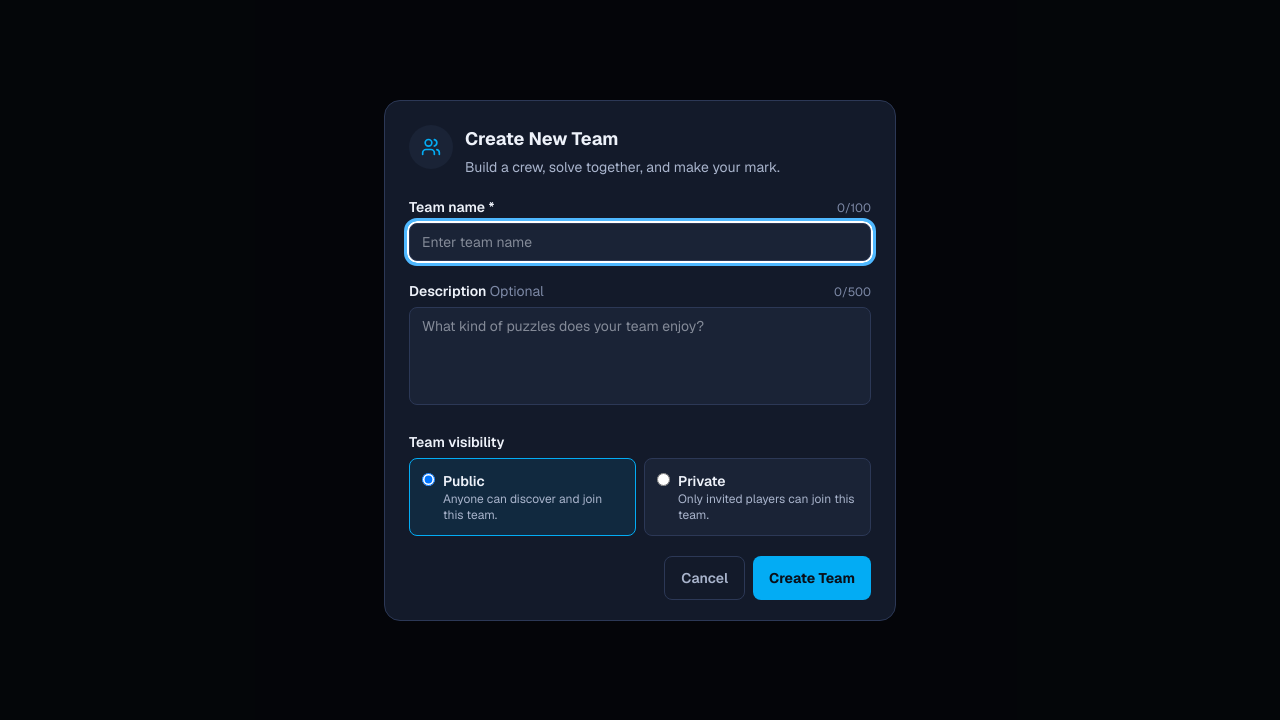
Test: CreateTeamModal — failure › 109. JSON error displays exactly
Type "Team" into the field with test id "create-team-name" at (640, 242), box [409,222,871,260]
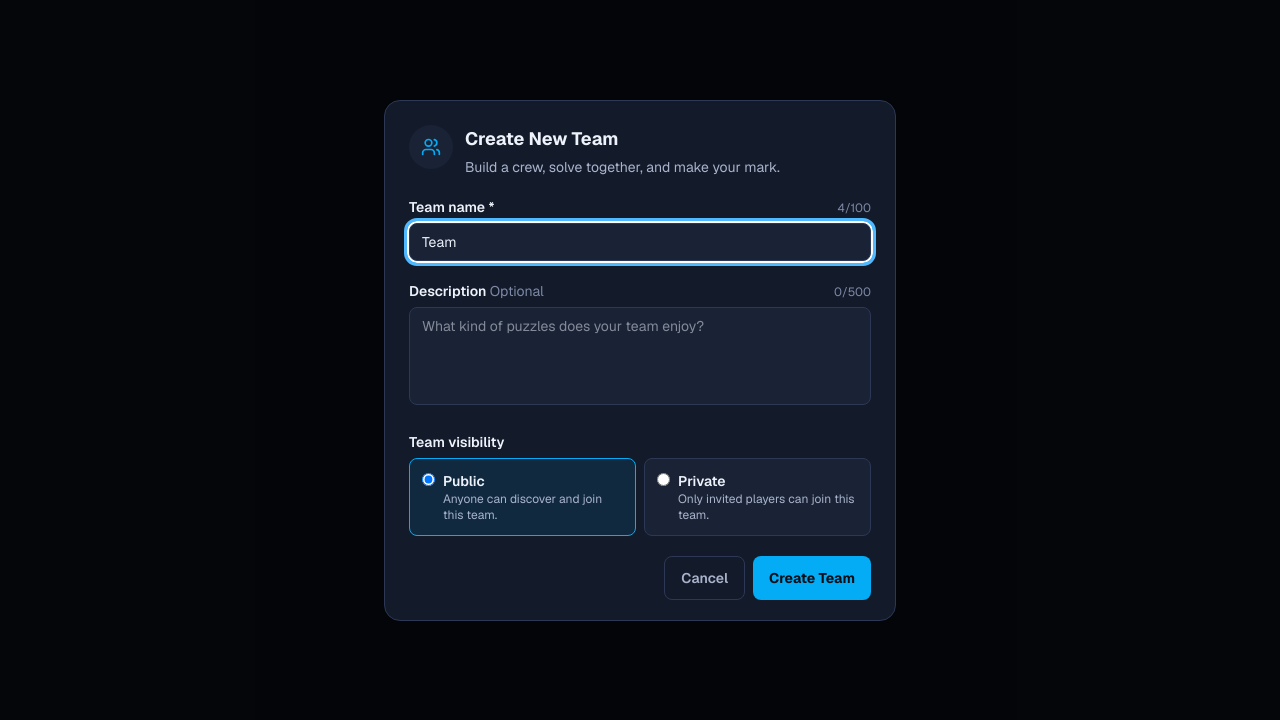
Click the button with test id "create-team-submit" at (812, 578), box [753,556,871,600]
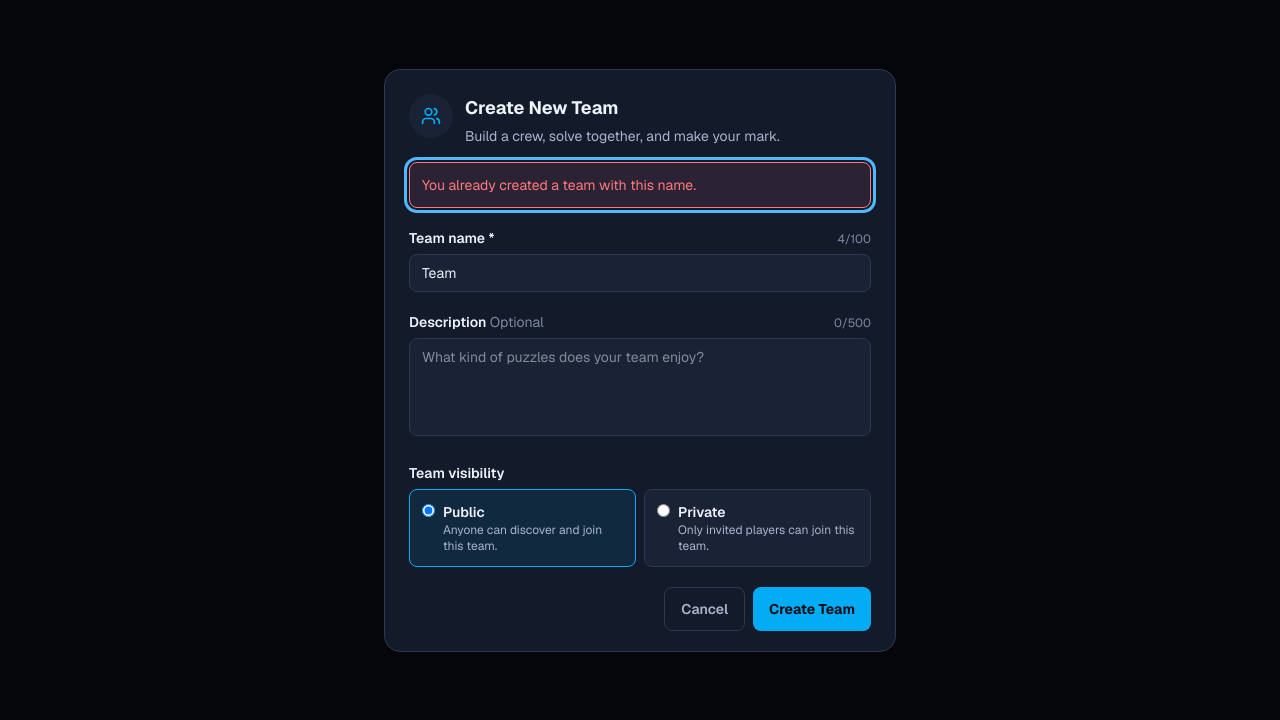
Expected: the message with test id "create-team-error" reads "You already created a team with this name.", [422,176,696,194]
